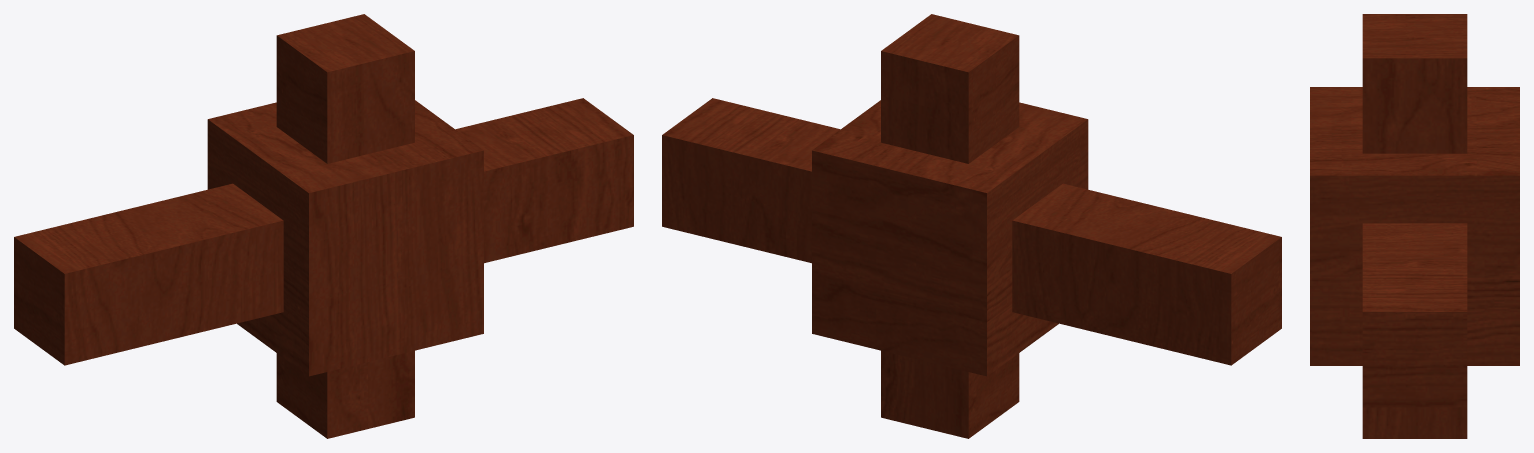
File: testshape.obj
3 views of the same model, side by side, from view 1: azimuth 30°, elevation 25°; view 2: azimuth 150°, elevation 25°; view 3: azimuth 270°, elevation 25° (orthographic). The views are drawn at different scales.
Visible parts, largest first — view 1: Cube; view 2: Cube; view 3: Cube.
Part boxes in pixels (left/top/right/bottom): Cube: left=14, top=14, right=633, bottom=438; Cube: left=662, top=14, right=1281, bottom=438; Cube: left=1310, top=14, right=1519, bottom=438.
Size of the model in its own units: 13 by 8 by 4.
Materials: 1 (1 with a texture image).
